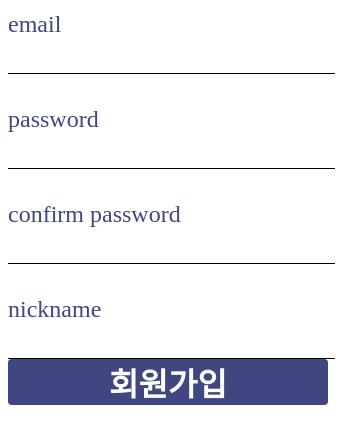
it: Component/Organism/SignupForm › 이메일 없이 제출을 눌렀을 경우
The image size is (352, 437).
Click the button "회원가입": [168, 382] box [8,359,328,405]
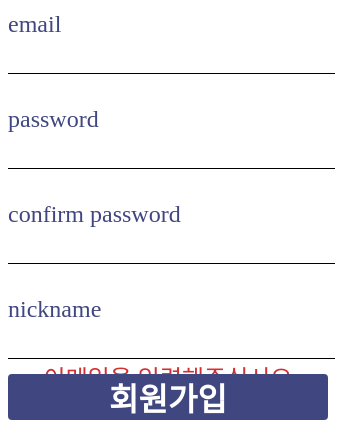
Check: the text "이메일을 입력해주십시오" is shown, box [44,359,292,374]
